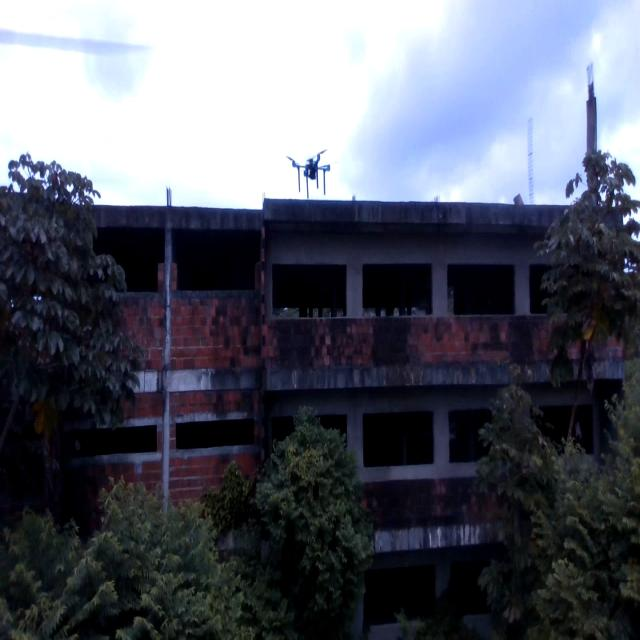-uav-: (282, 133, 332, 203)
